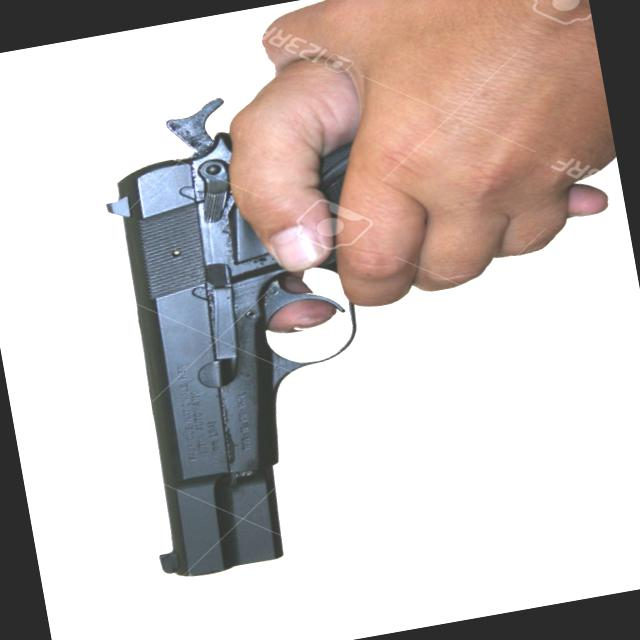handgun: (82, 71, 447, 584)
